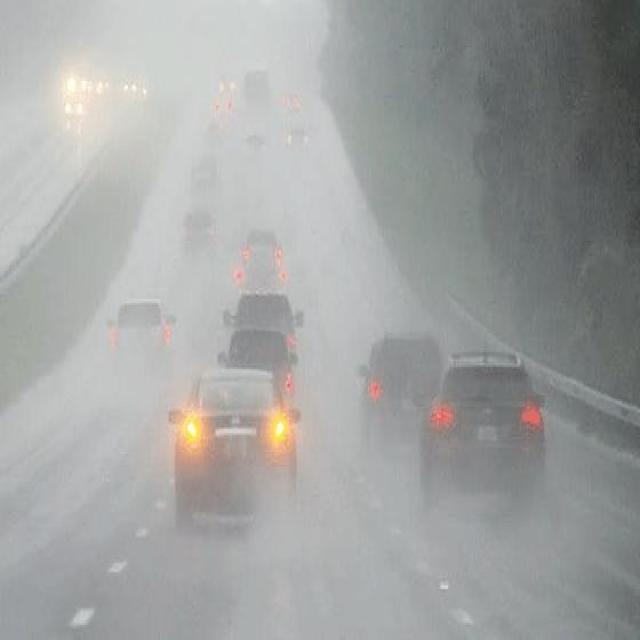Car: (170, 364, 298, 528), (419, 347, 548, 492), (358, 332, 446, 459), (222, 292, 304, 366), (108, 298, 177, 368), (240, 230, 286, 284), (182, 209, 220, 254), (190, 151, 220, 194), (286, 124, 310, 151)
